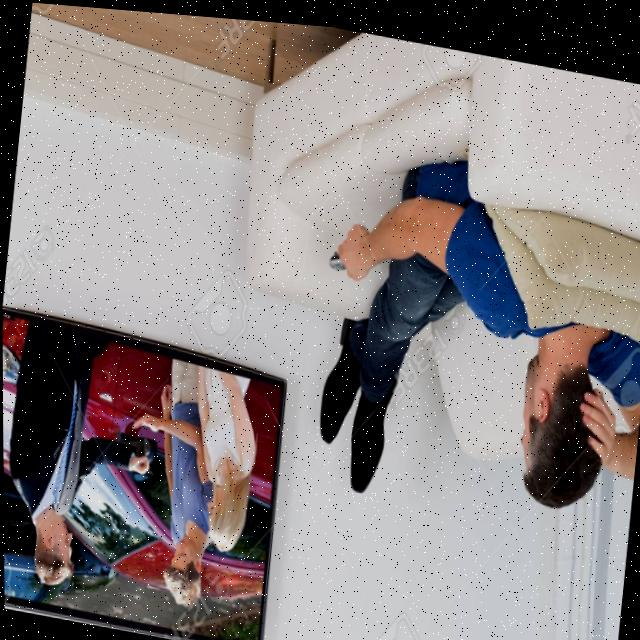tv-person: (0, 78, 640, 640)
